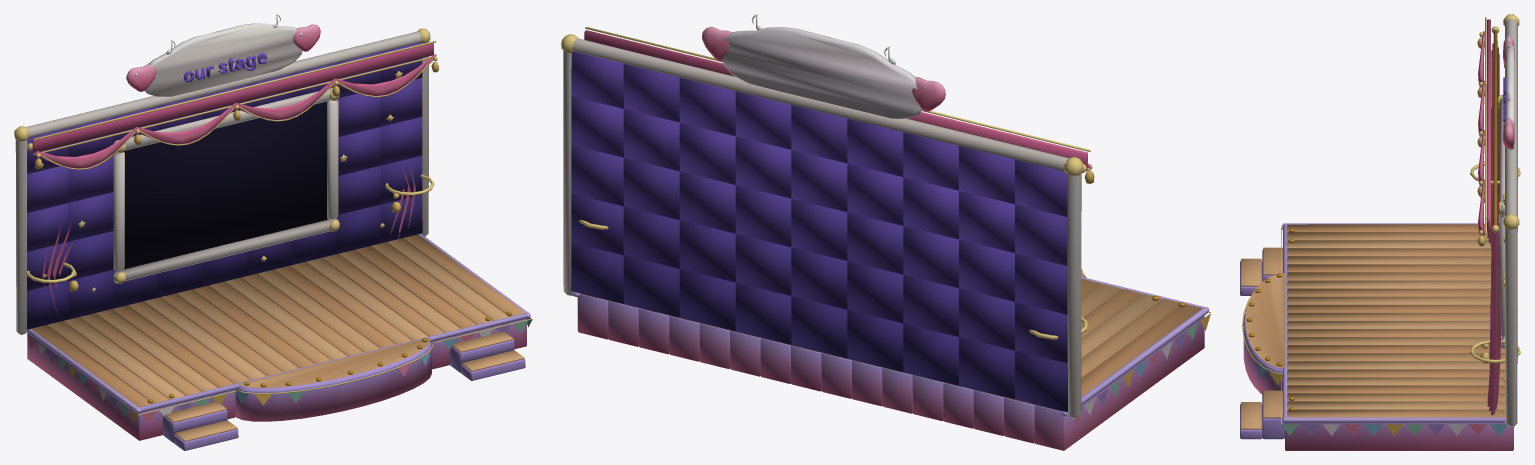
File: prp_stage_lite.glb
The picture shows the model from 3 angles, left to right: view 1: azimuth 30°, elevation 25°; view 2: azimuth 150°, elevation 25°; view 3: azimuth 270°, elevation 25°; orthographic projection. The views are drawn at different scales.
Parts seen in each view (by area): view 1: INST_prp_stage_lite_back, INST_prp_stage_lite_deck, INST_prp_stage_lite_curtains; view 2: INST_prp_stage_lite_back, INST_prp_stage_lite_deck, INST_prp_stage_lite_curtains; view 3: INST_prp_stage_lite_deck, INST_prp_stage_lite_back, INST_prp_stage_lite_curtains.
Part boxes in pixels (bbox=[...]): INST_prp_stage_lite_back: bbox=[14, 14, 430, 334]; INST_prp_stage_lite_deck: bbox=[27, 233, 532, 450]; INST_prp_stage_lite_curtains: bbox=[26, 40, 439, 310]; INST_prp_stage_lite_back: bbox=[561, 14, 1083, 418]; INST_prp_stage_lite_deck: bbox=[573, 269, 1210, 450]; INST_prp_stage_lite_curtains: bbox=[579, 27, 1094, 339]; INST_prp_stage_lite_deck: bbox=[1240, 223, 1513, 450]; INST_prp_stage_lite_back: bbox=[1497, 14, 1519, 426]; INST_prp_stage_lite_curtains: bbox=[1470, 17, 1520, 415].
Size of the model in its own units: 9.82 by 6.49 by 5.64.
